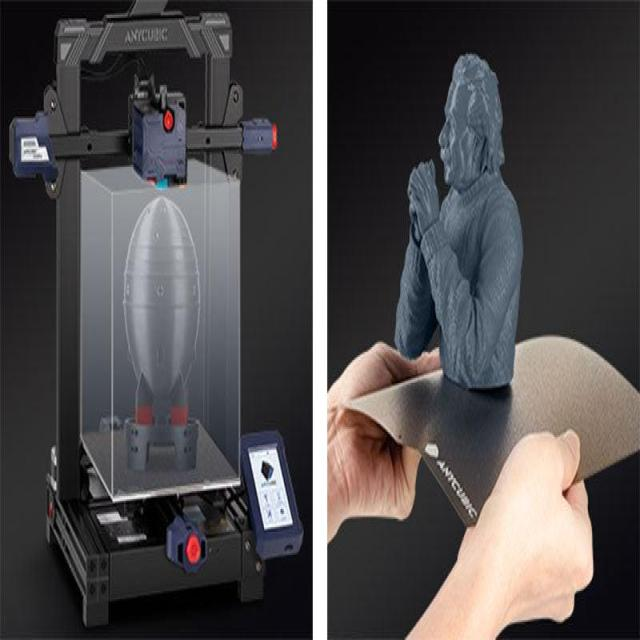Without deffect: (394, 20, 532, 405)
